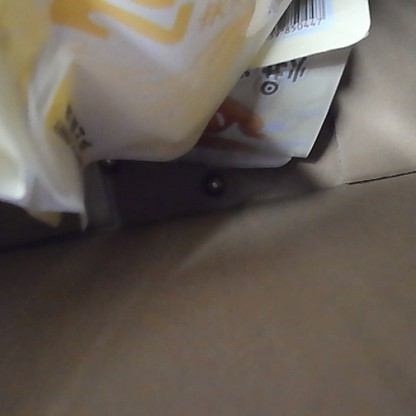ironball: (201, 172, 225, 196), (97, 155, 122, 175)
